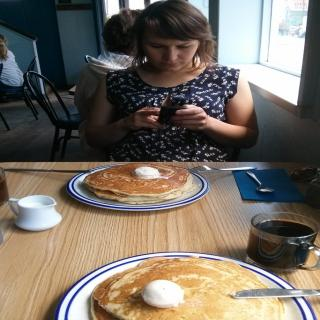Pancake: (95, 258, 280, 320), (84, 163, 196, 206)
